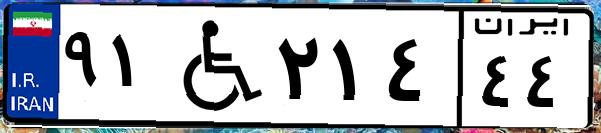1: (330, 28, 385, 110), (110, 28, 158, 98)
2: (270, 28, 330, 110)
4: (385, 28, 445, 110), (475, 38, 525, 113), (525, 38, 570, 115)
9: (57, 26, 110, 100)
ژ (معلولین و جانبازان): (158, 12, 270, 120)
